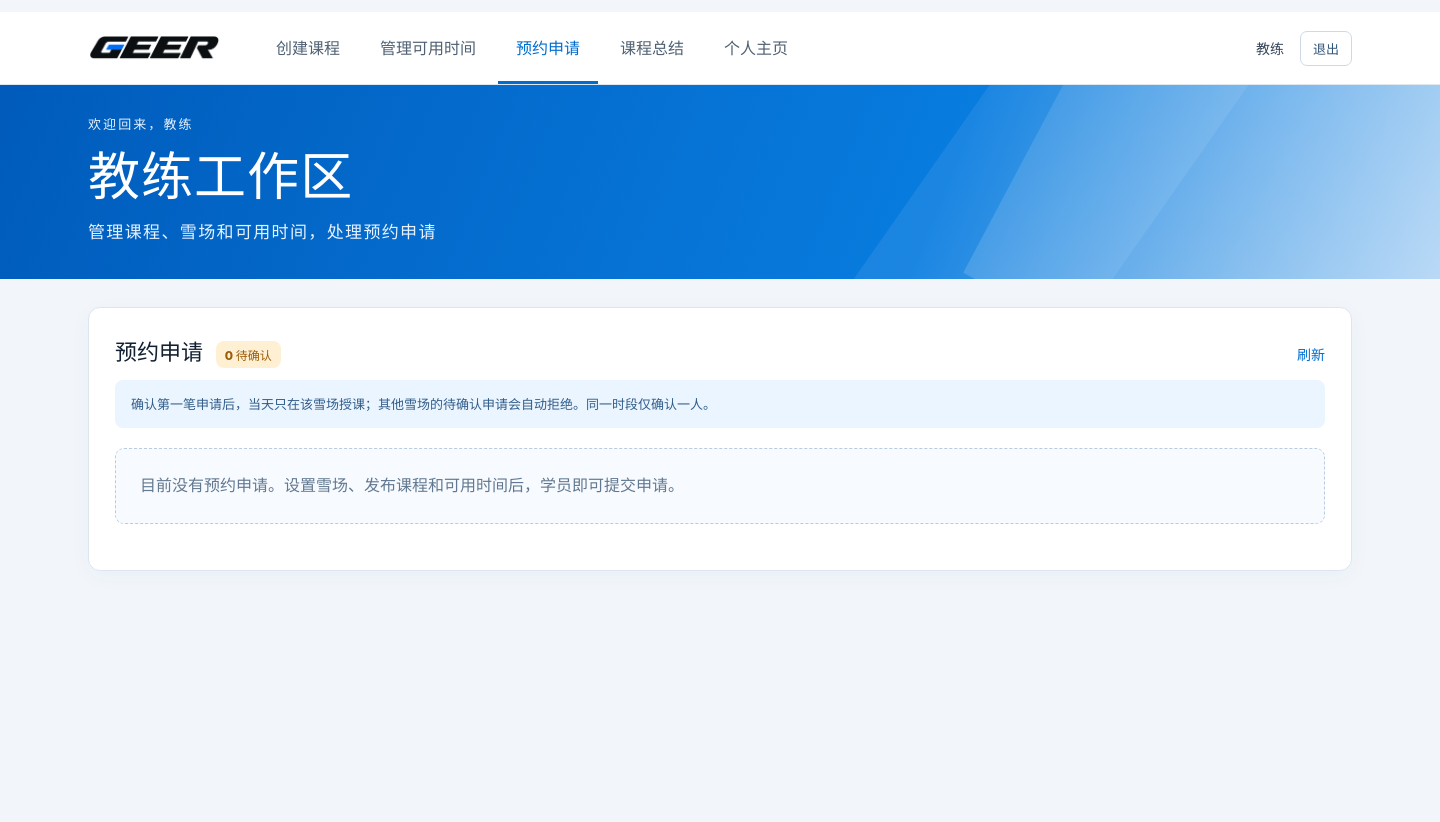
Test case: provides a dedicated coach lesson summary entry
This screenshot has width=1440, height=822.
Click the button "课程总结".
click(652, 48)  # box [602,12,702,84]
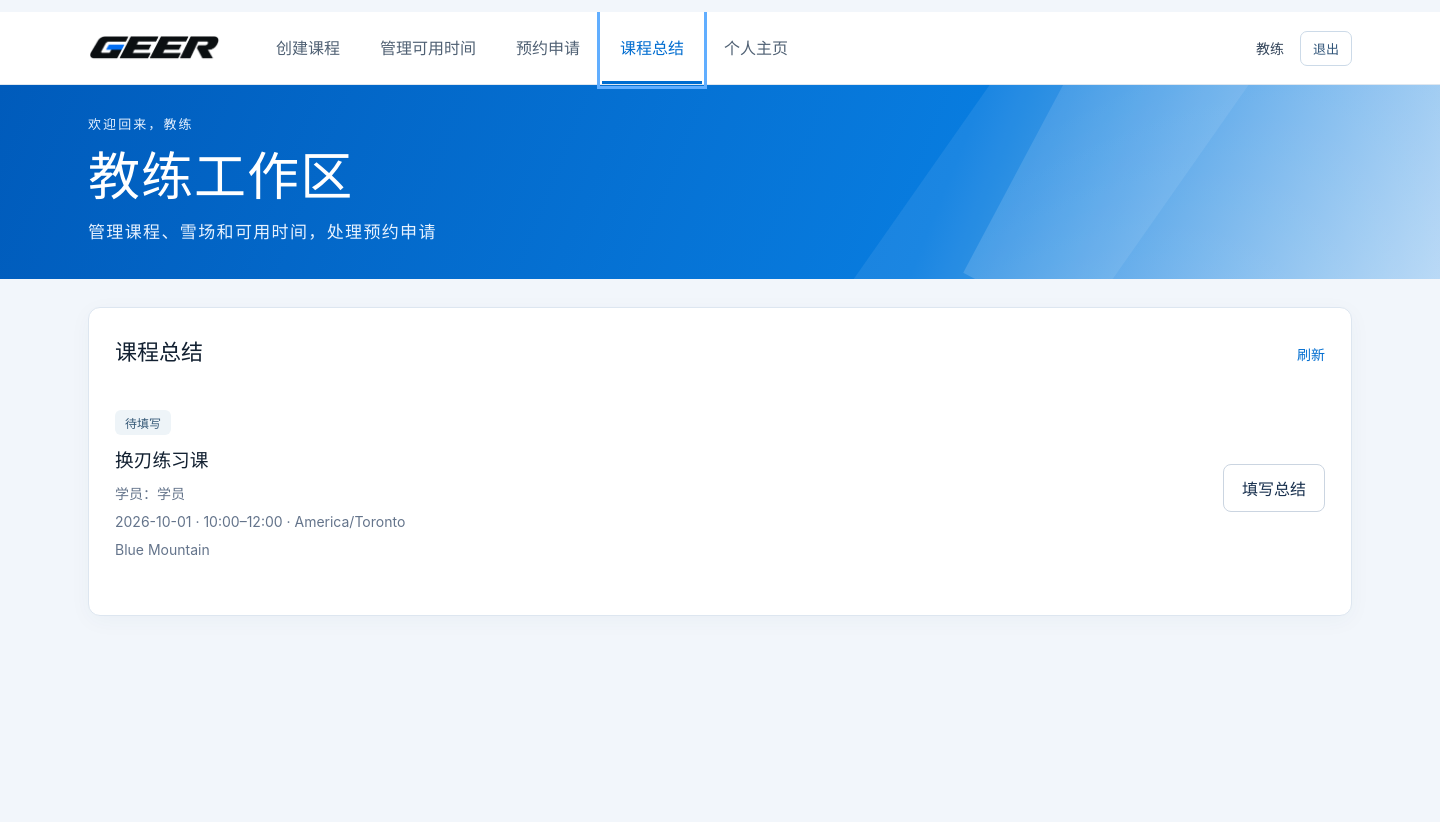
Now the heading "换刃练习课" is shown, box [115,449,208,472]
